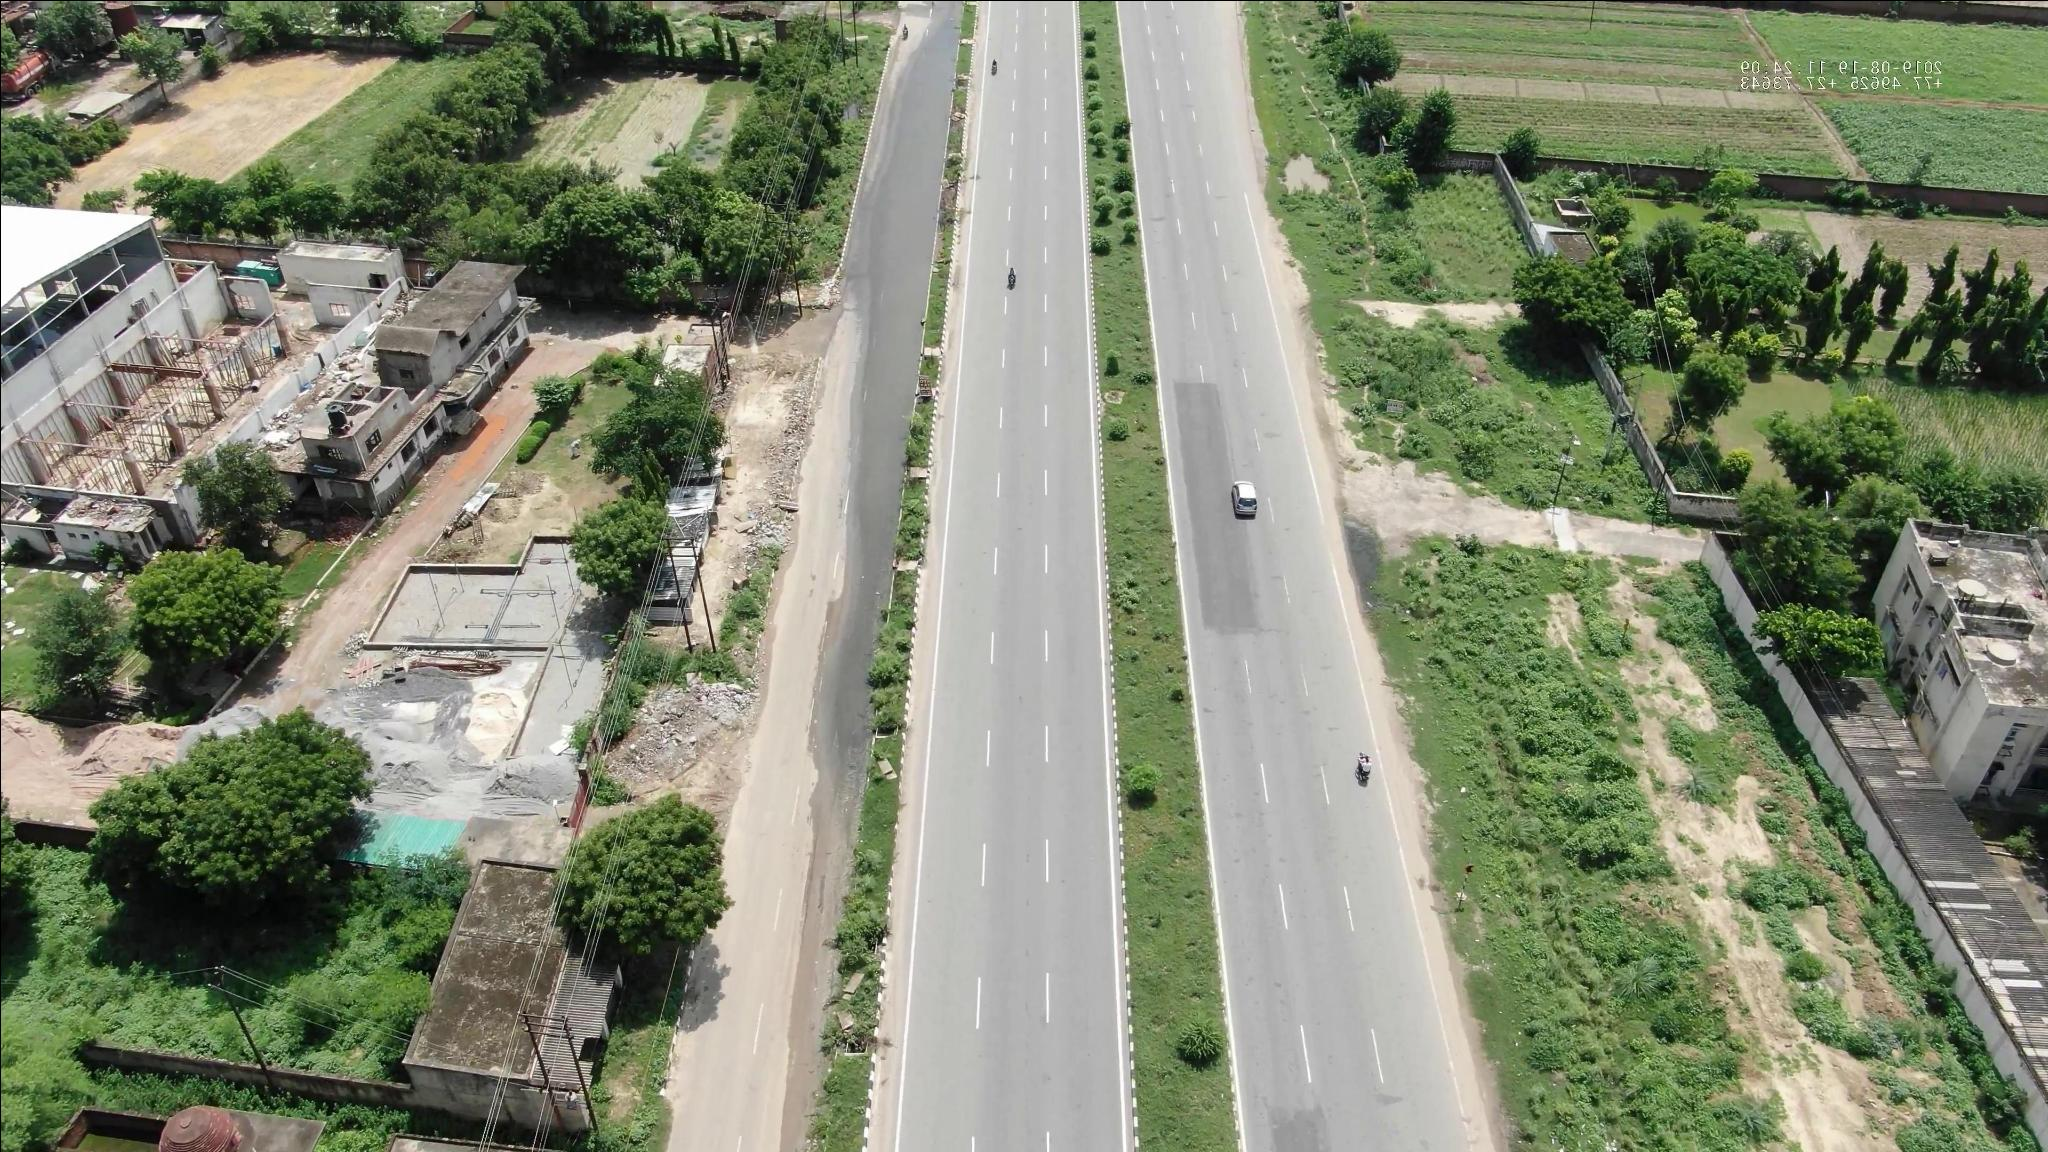Waterlogging: (813, 46, 938, 769)
